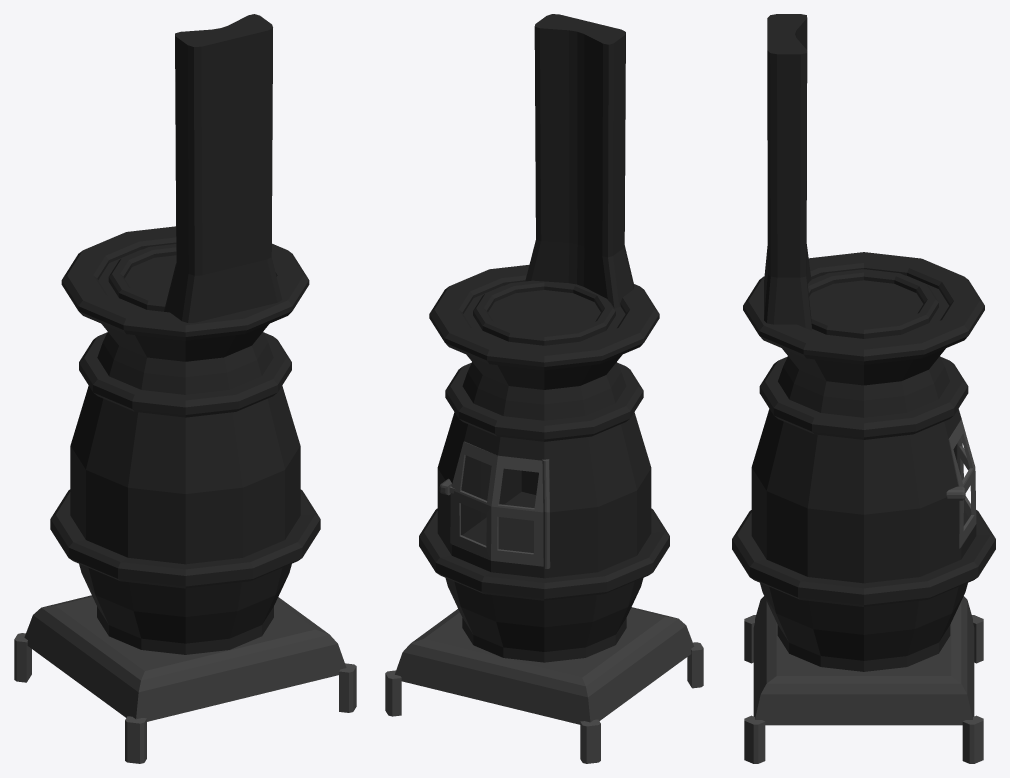
Rendered from Furnace.fbx.
3 renders of one model, left to right at view 1: azimuth 30°, elevation 25°; view 2: azimuth 150°, elevation 25°; view 3: azimuth 270°, elevation 25°, orthographic. The views are drawn at different scales.
Visible parts, largest first — view 1: Furnace, Pipe; view 2: Furnace, Pipe, Door; view 3: Furnace, Pipe, Door.
Boxes of the visible parts, x1,y1,x2,y2 form: Furnace: [14, 226, 356, 763]; Pipe: [175, 14, 272, 275]; Furnace: [385, 240, 703, 763]; Pipe: [534, 14, 625, 257]; Door: [449, 441, 543, 566]; Furnace: [732, 244, 995, 763]; Pipe: [767, 14, 807, 277]; Door: [948, 419, 976, 548].
Size of the model in its own units: 82.01 by 231 by 82.01.
